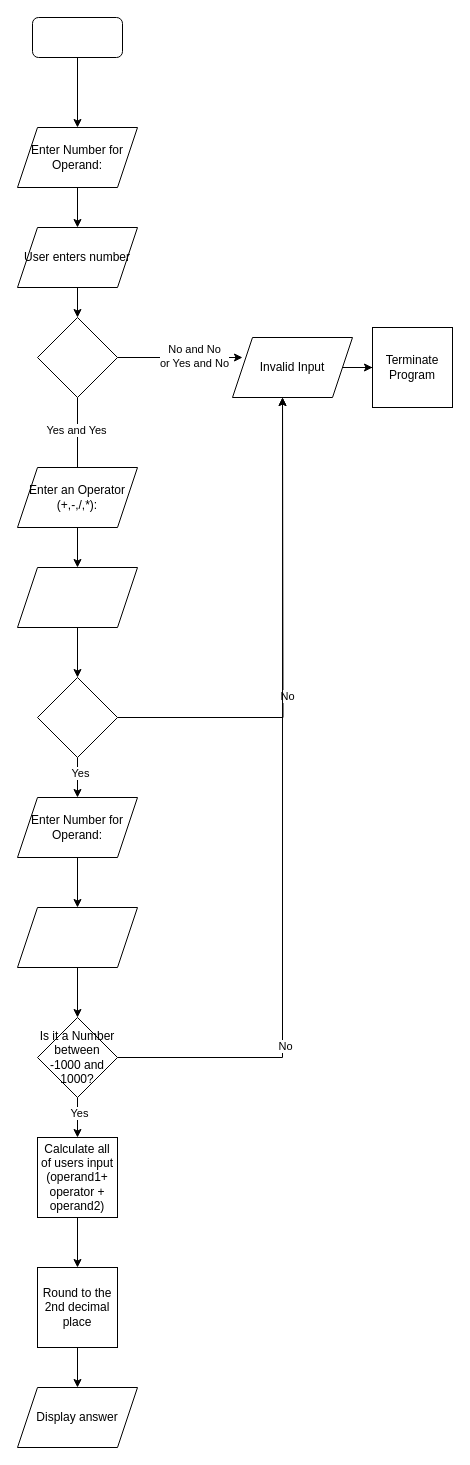
This 470x1465 diagram has some shape labels left out. The shapes that lost their labels are listed below. From the top down, each one's centre as x and y in pixels, then its label:
the point at 77,37: Start
the point at 77,357: Is it a number? And -1000<x<1000
the point at 77,597: User Enters an Operator
the point at 77,717: Is it the Operators +,-,/, or *?
the point at 77,937: User enters Operand
